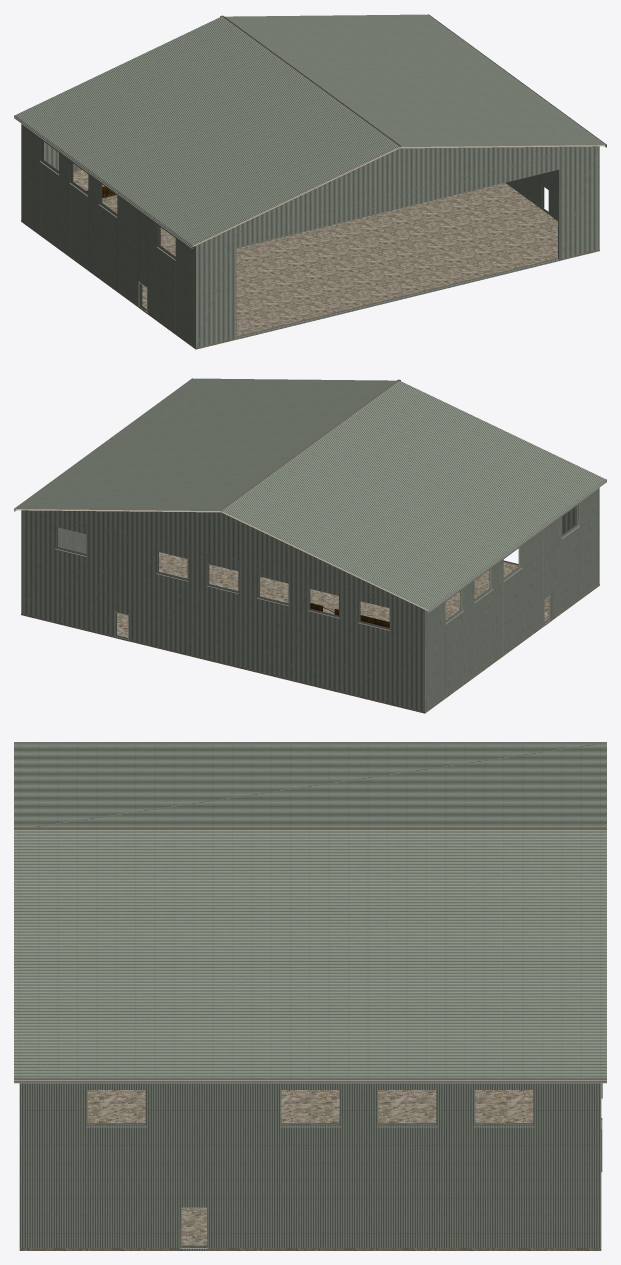
Rendered from mil-hangar.reveal-v1.lod0.glb.
3 views of the same model, one above another, from view 1: azimuth 30°, elevation 25°; view 2: azimuth 150°, elevation 25°; view 3: azimuth 270°, elevation 25° (orthographic). The views are drawn at different scales.
Parts seen in each view (by area): view 1: mil-hangar; view 2: mil-hangar; view 3: mil-hangar.
Boxes of the visible parts, box(x1,y1,x2,y2) form: mil-hangar: box(14, 14, 606, 349); mil-hangar: box(14, 378, 606, 713); mil-hangar: box(14, 742, 606, 1250).
Size of the model in its own units: 41.08 by 14.71 by 30.6.
4 materials, 3 textured.
